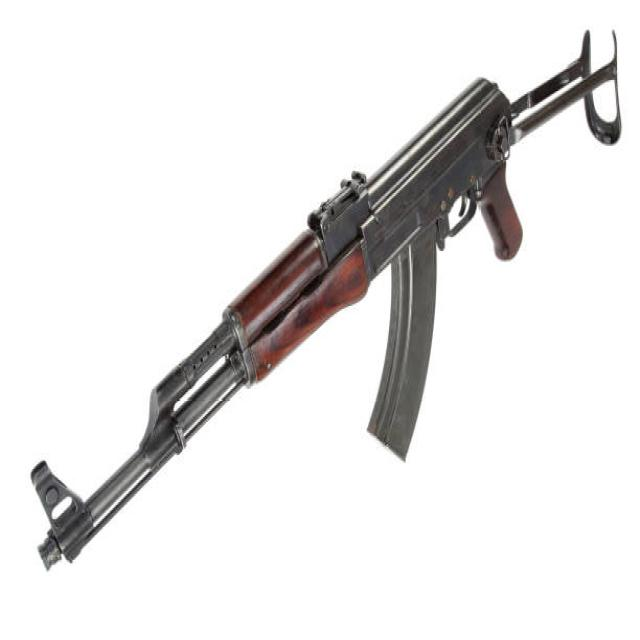rifle: (30, 22, 632, 578)
